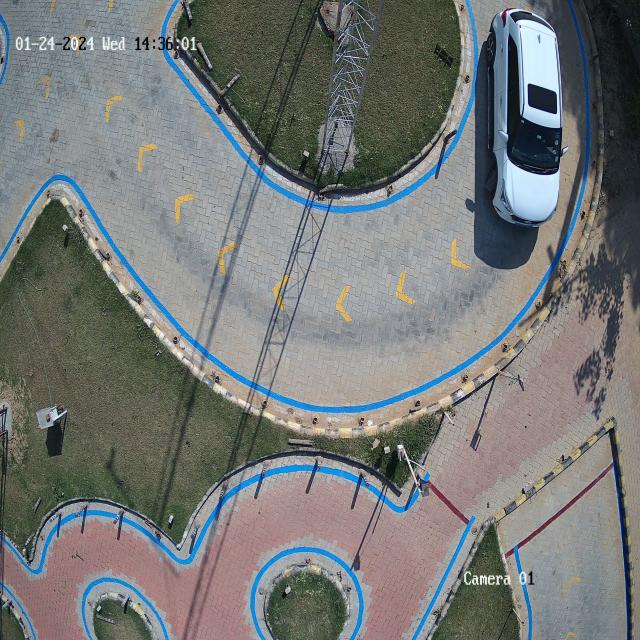car: (485, 8, 568, 227)
